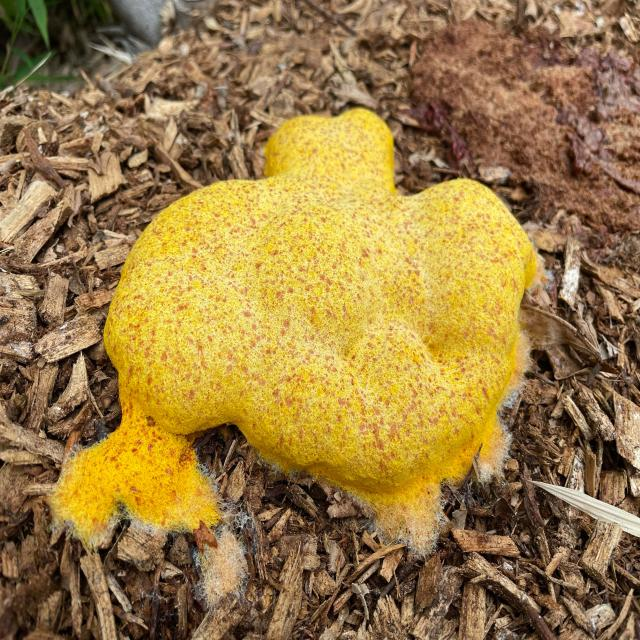Dog_vomit_slime_mold: (44, 86, 544, 586)
